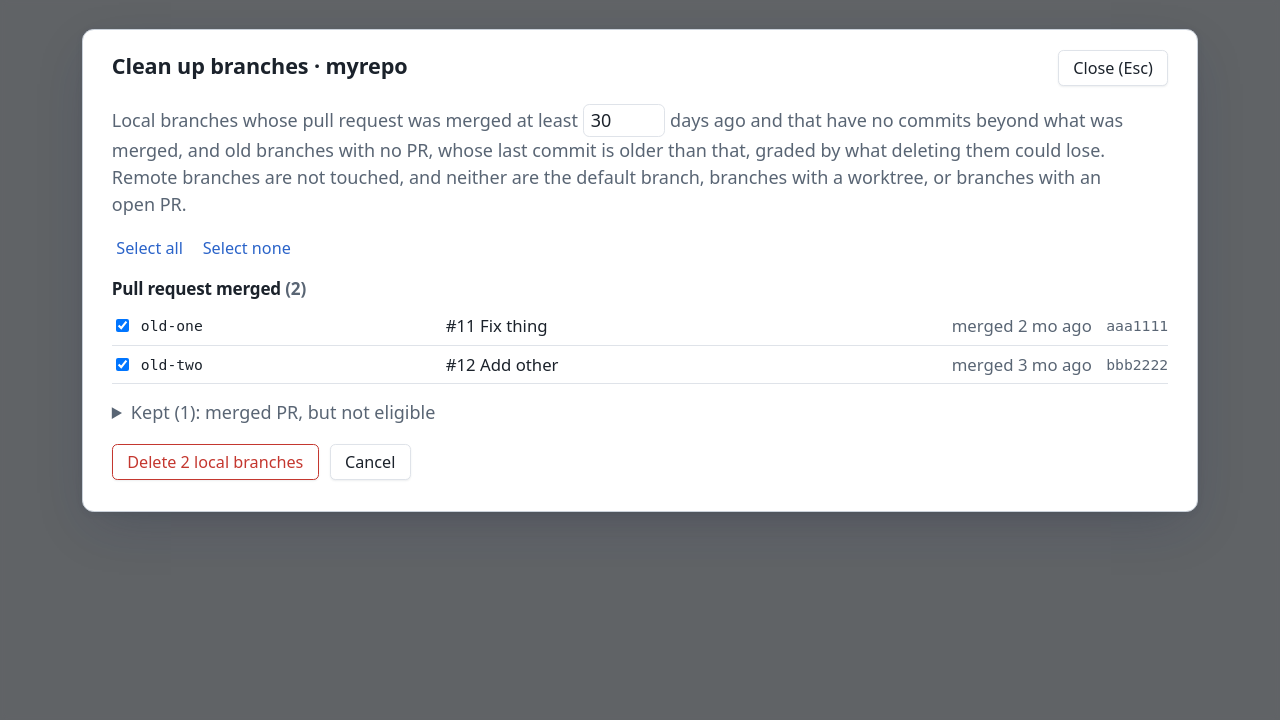
Test: CleanupModal › shows what happened and how to restore each deleted branch
Click the button "Delete 2 local branches". click: click(215, 462)
box: [112,444,319,480]
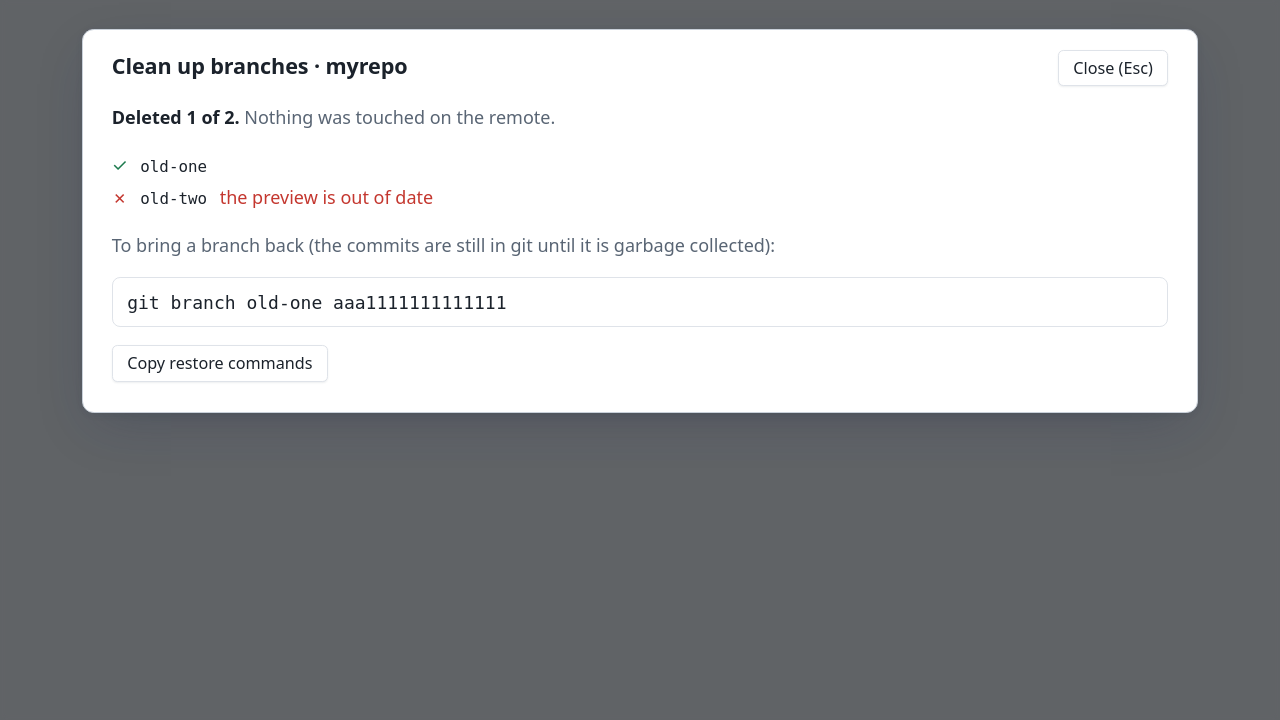
expect the text "Deleted 1 of 2" is shown: met, box [112,105,240,129]
expect the text "git branch old-one aaa1111111111111" is shown: met, box [127,292,506,312]
expect the text "git branch old-two" is gone: met
